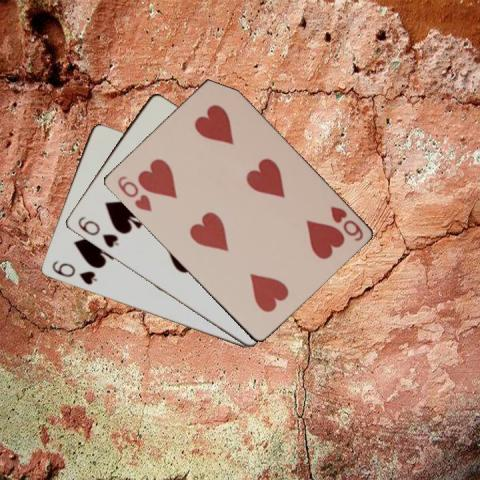6h: (326, 202, 365, 243), (114, 173, 153, 213)
6s: (74, 214, 120, 250), (49, 257, 98, 287)
